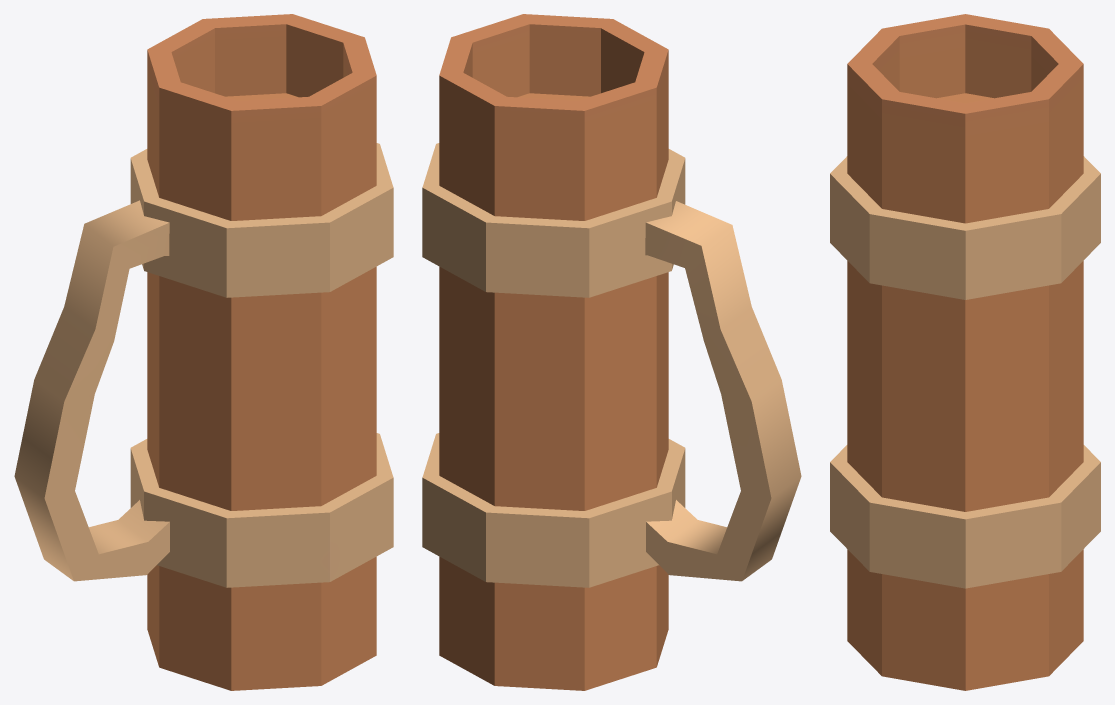
Rendered from ArrowBag.fbx.
3 views of the same model, side by side, from view 1: azimuth 30°, elevation 25°; view 2: azimuth 150°, elevation 25°; view 3: azimuth 270°, elevation 25° (orthographic).
Parts seen in each view (by area): view 1: ArrowBag; view 2: ArrowBag; view 3: ArrowBag.
Boxes of the visible parts, box(x1,y1,x2,y2) form: ArrowBag: box(14, 14, 393, 690); ArrowBag: box(422, 14, 801, 690); ArrowBag: box(830, 14, 1100, 690).
Size of the model in its own units: 38.01 by 60.11 by 25.57.
